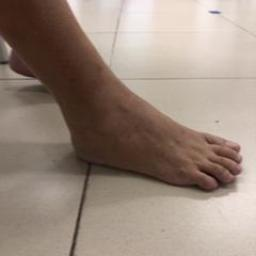Lateral View -Right Foot-: (44, 74, 248, 207)
